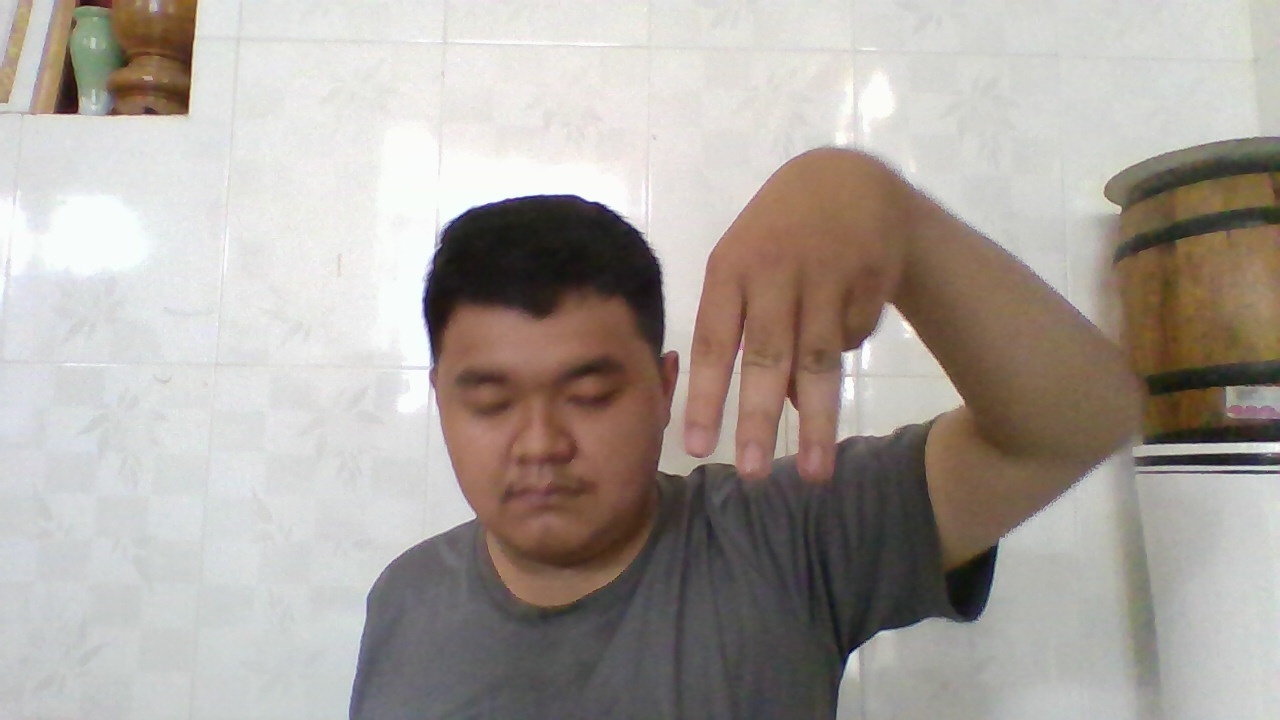M: (680, 147, 893, 485)
